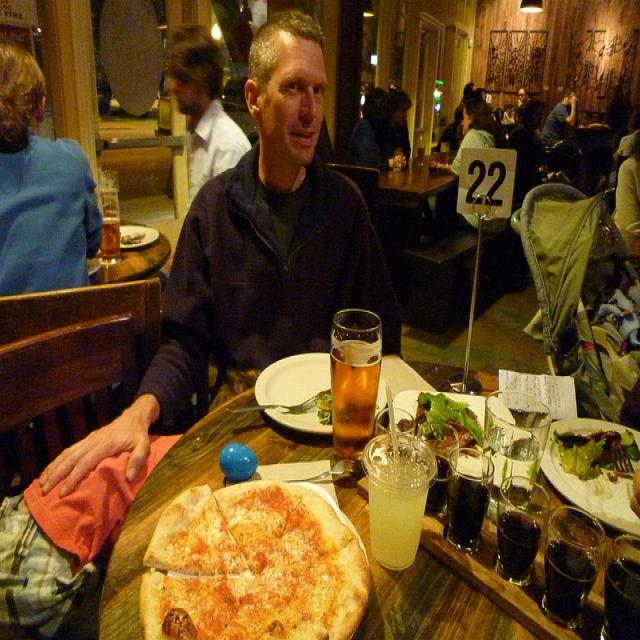chair: (0, 278, 161, 494), (319, 117, 382, 224)
dining table: (91, 187, 167, 289), (360, 142, 461, 202)
